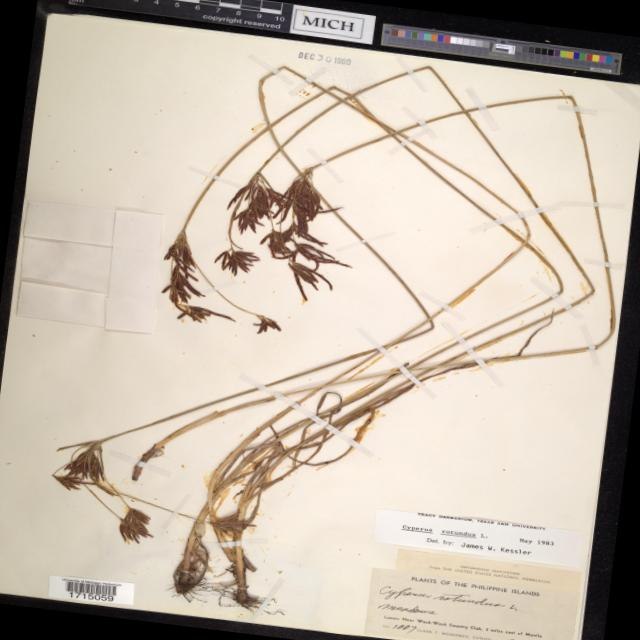cyperus: (137, 144, 376, 354), (36, 419, 181, 548)
